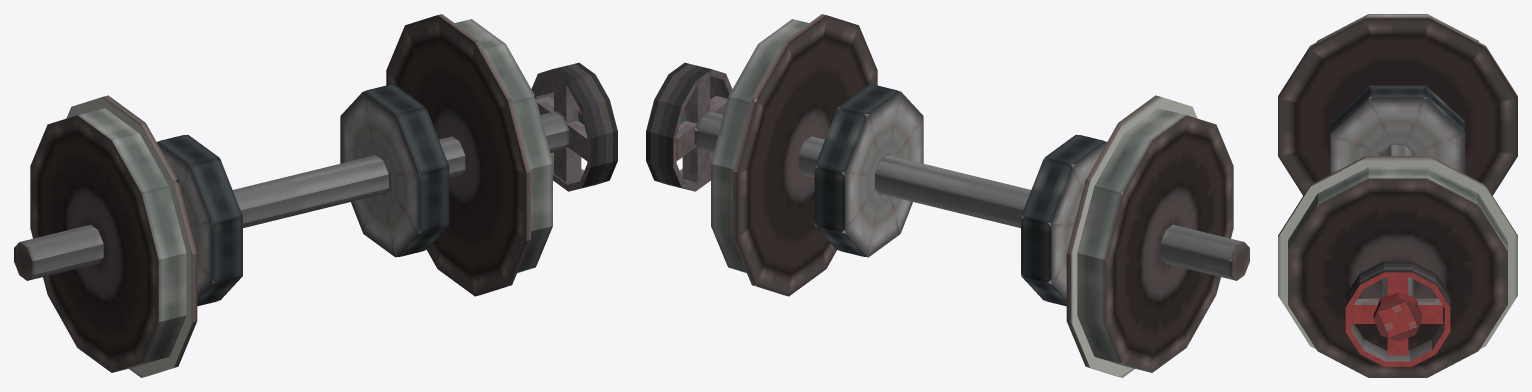
The model's file is pk209p_wheel.obj.
3 views of the same model, side by side, from view 1: azimuth 30°, elevation 25°; view 2: azimuth 150°, elevation 25°; view 3: azimuth 270°, elevation 25° (orthographic). The views are drawn at different scales.
Parts seen in each view (by area): view 1: cylinder; view 2: cylinder; view 3: cylinder.
Part boxes in pixels (bbox=[...]): cylinder: bbox=[14, 14, 617, 377]; cylinder: bbox=[646, 14, 1249, 377]; cylinder: bbox=[1278, 14, 1517, 377].
Size of the model in its own units: 2.33 by 1 by 1.
